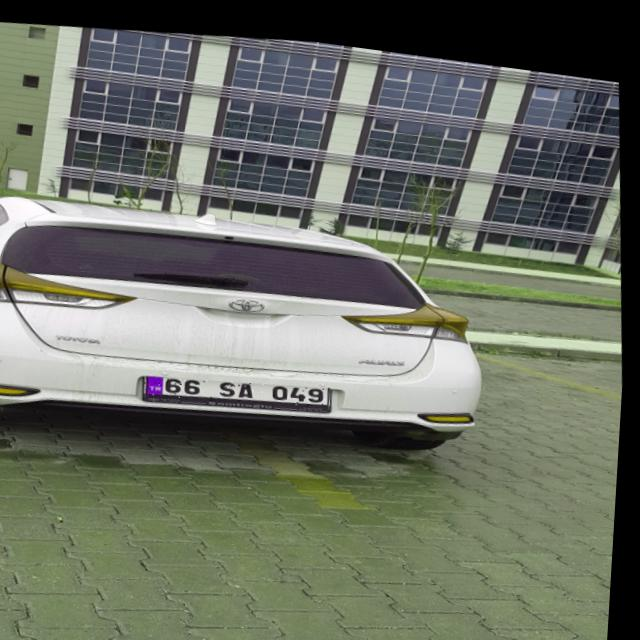license_plate: (147, 359, 336, 411)
